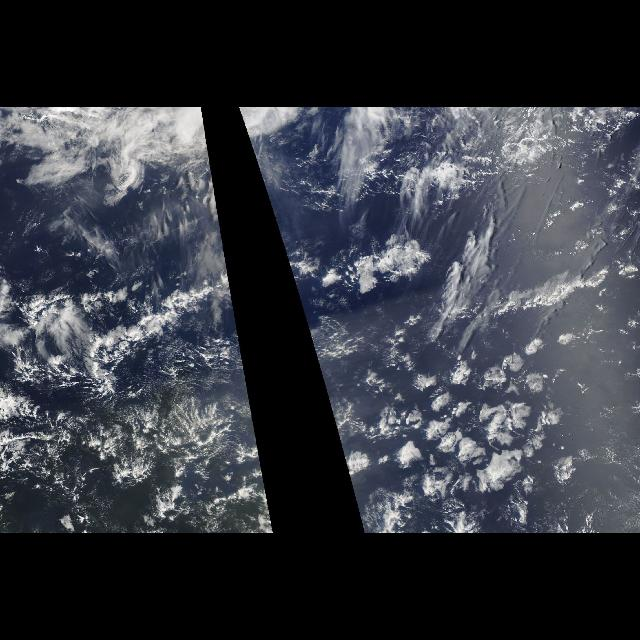Flower: (348, 332, 608, 532)
Sugar: (107, 344, 239, 478)
